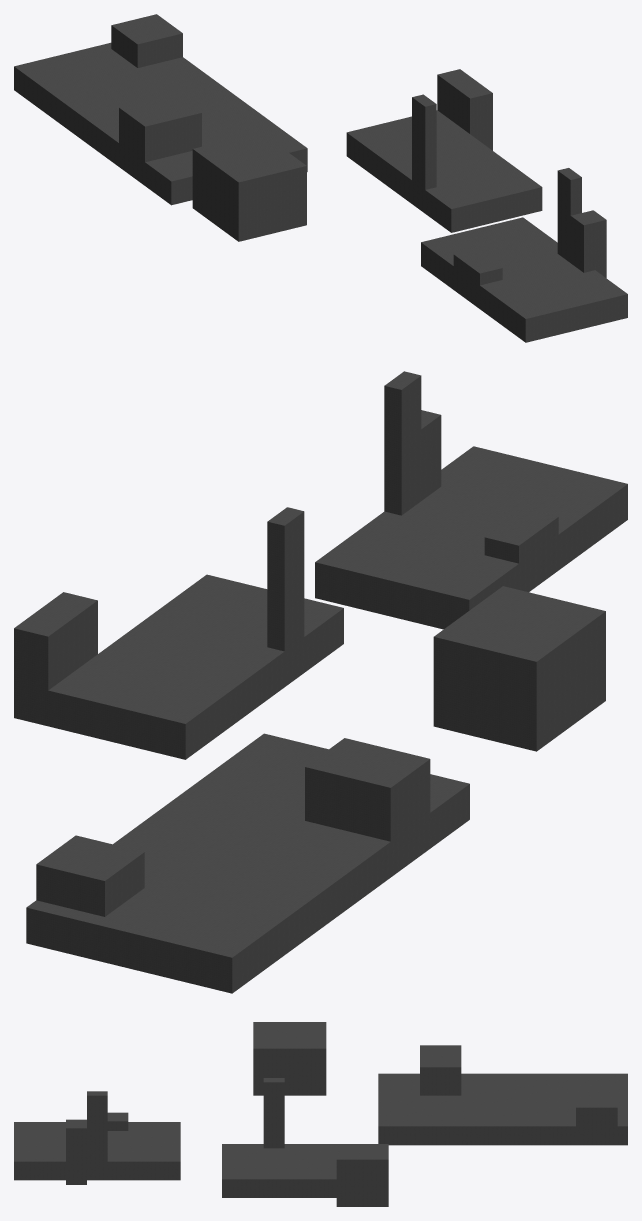
3 views of the same model, one above another, from view 1: azimuth 30°, elevation 25°; view 2: azimuth 150°, elevation 25°; view 3: azimuth 270°, elevation 25° (orthographic). The views are drawn at different scales.
Visible parts, largest first — view 1: SFP_Concrete Mesh (1); view 2: SFP_Concrete Mesh (1); view 3: SFP_Concrete Mesh (1).
Part boxes in pixels (left/top/right/bottom): SFP_Concrete Mesh (1): left=14, top=14, right=627, bottom=342; SFP_Concrete Mesh (1): left=14, top=371, right=627, bottom=993; SFP_Concrete Mesh (1): left=14, top=1022, right=627, bottom=1206.
Size of the model in its own units: 27 by 9 by 59.
